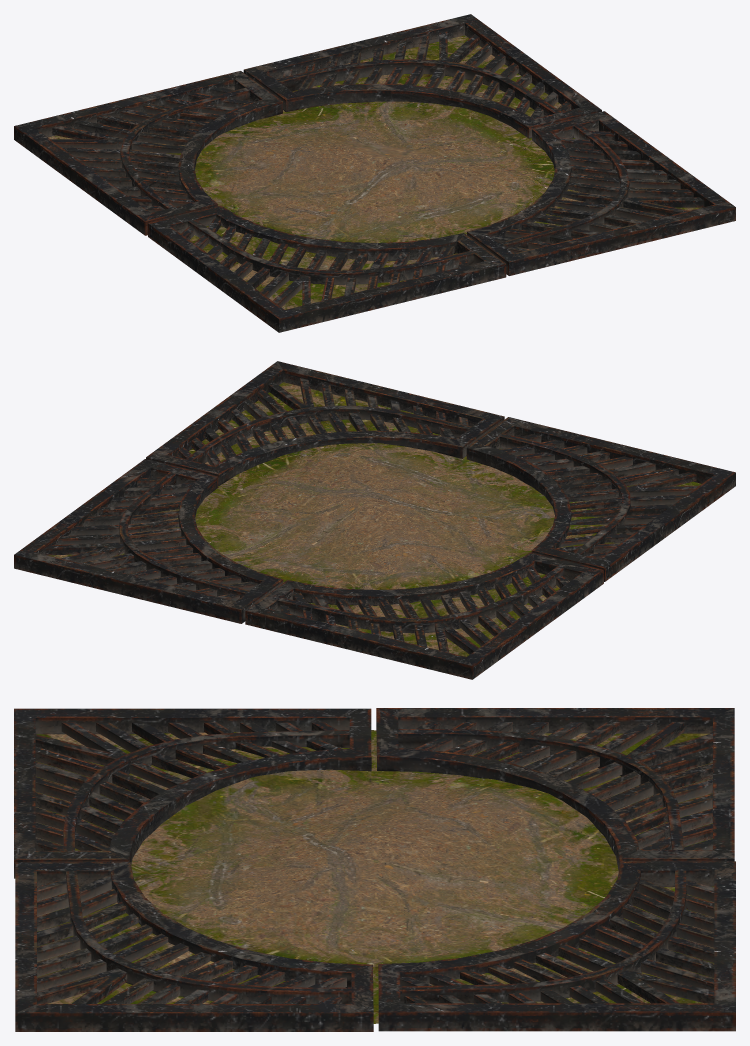
The model's file is Prop_Tree_Manhole.fbx.
3 views of the same model, one above another, from view 1: azimuth 30°, elevation 25°; view 2: azimuth 150°, elevation 25°; view 3: azimuth 270°, elevation 25° (orthographic). The views are drawn at different scales.
Parts seen in each view (by area): view 1: Prop_Tree_Manhole; view 2: Prop_Tree_Manhole; view 3: Prop_Tree_Manhole.
Part boxes in pixels (x1,y1,x2,y2): Prop_Tree_Manhole: [14, 14, 735, 332]; Prop_Tree_Manhole: [14, 361, 735, 679]; Prop_Tree_Manhole: [14, 708, 735, 1031].
Bounding box in the file's own units: 86.38 × 4.03 × 86.38.
